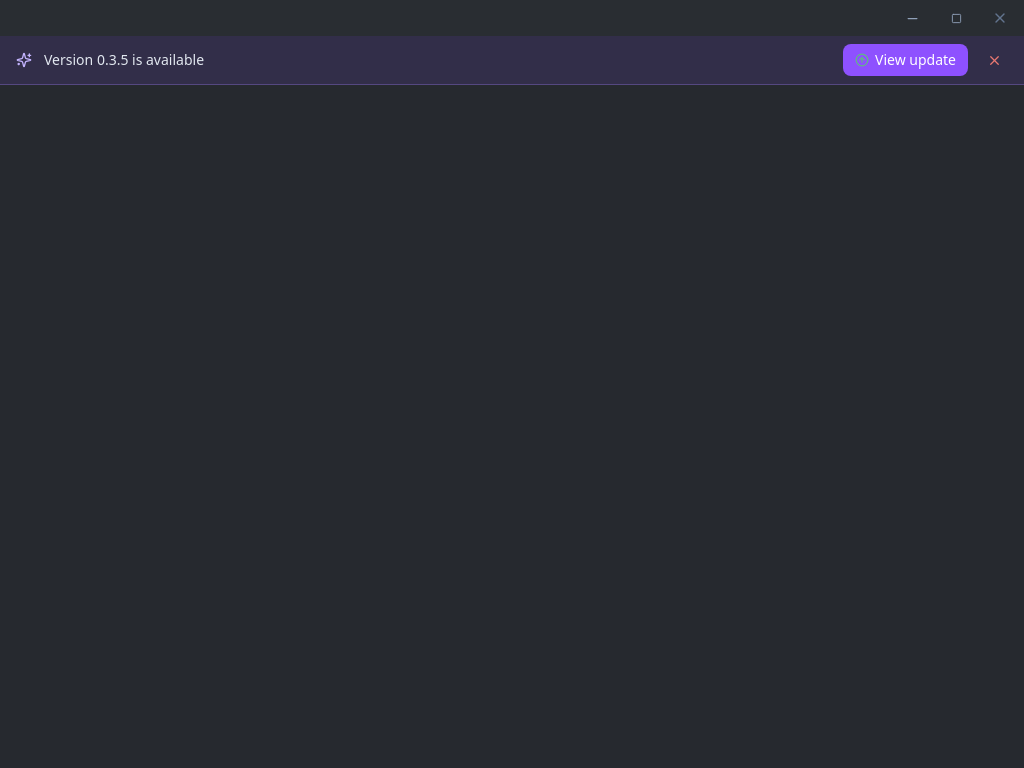
AppShellChrome update surface › opens the details only when the user asks for them
This screenshot has width=1024, height=768.
Click the button "View update": (906, 60) left=843, top=44, right=968, bottom=76
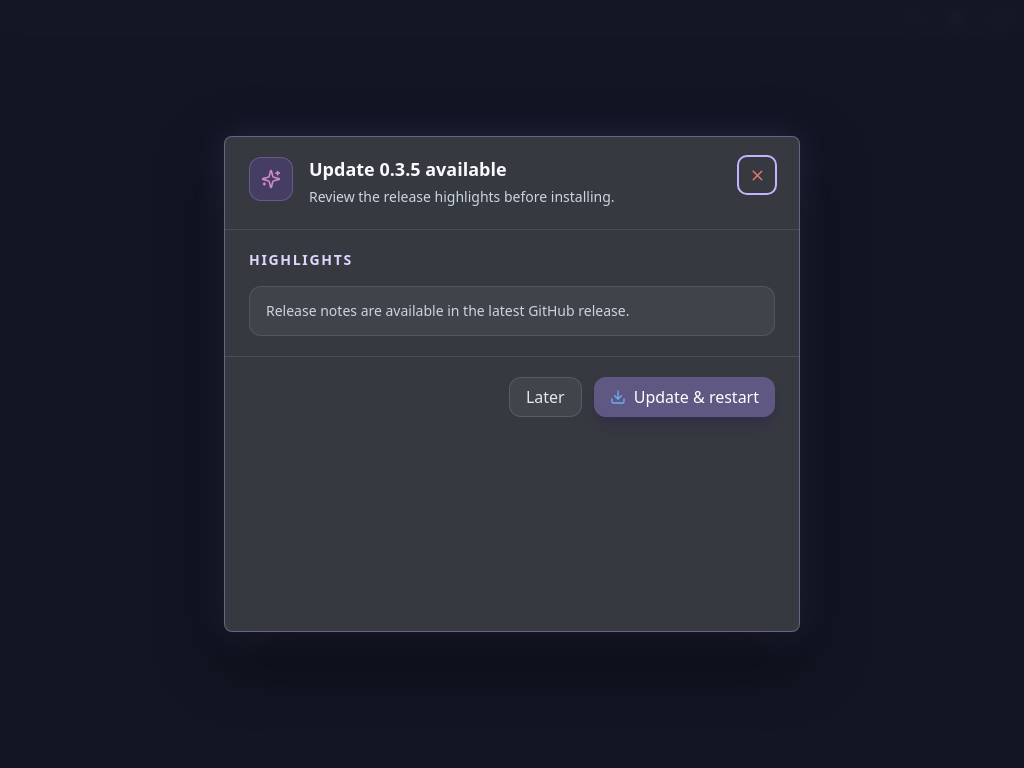
Expected: the dialog is shown, left=224, top=136, right=800, bottom=632
